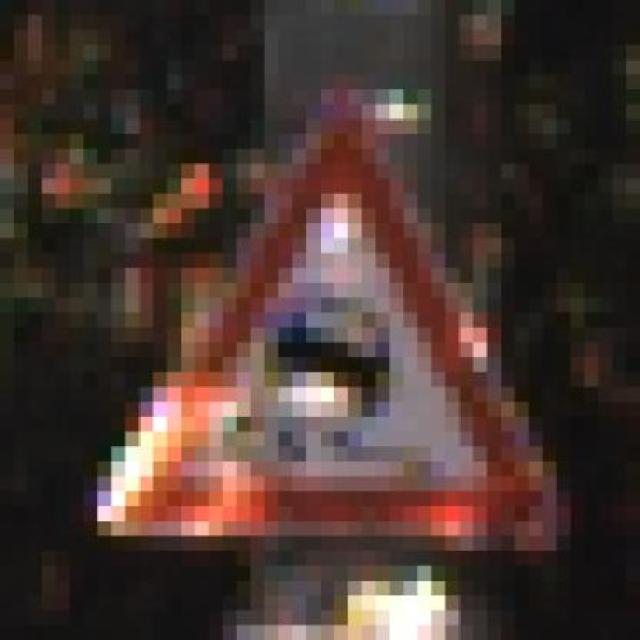Slippery Road Ahead: (77, 106, 592, 552)
